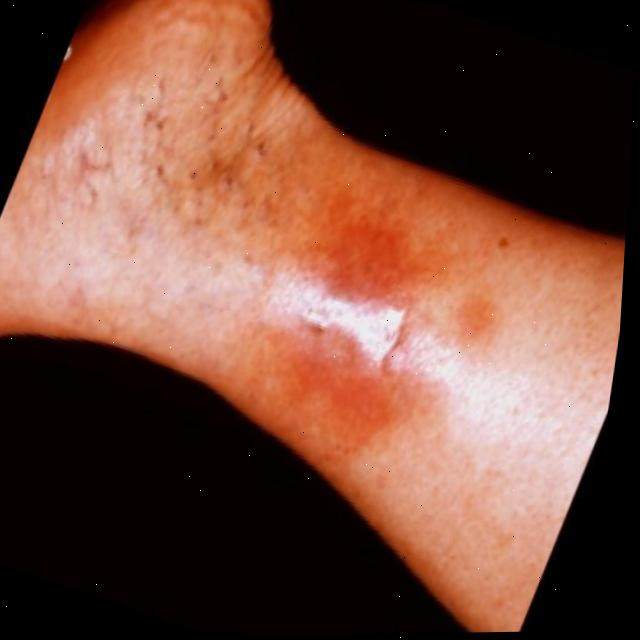Eczema: (152, 85, 465, 444)
